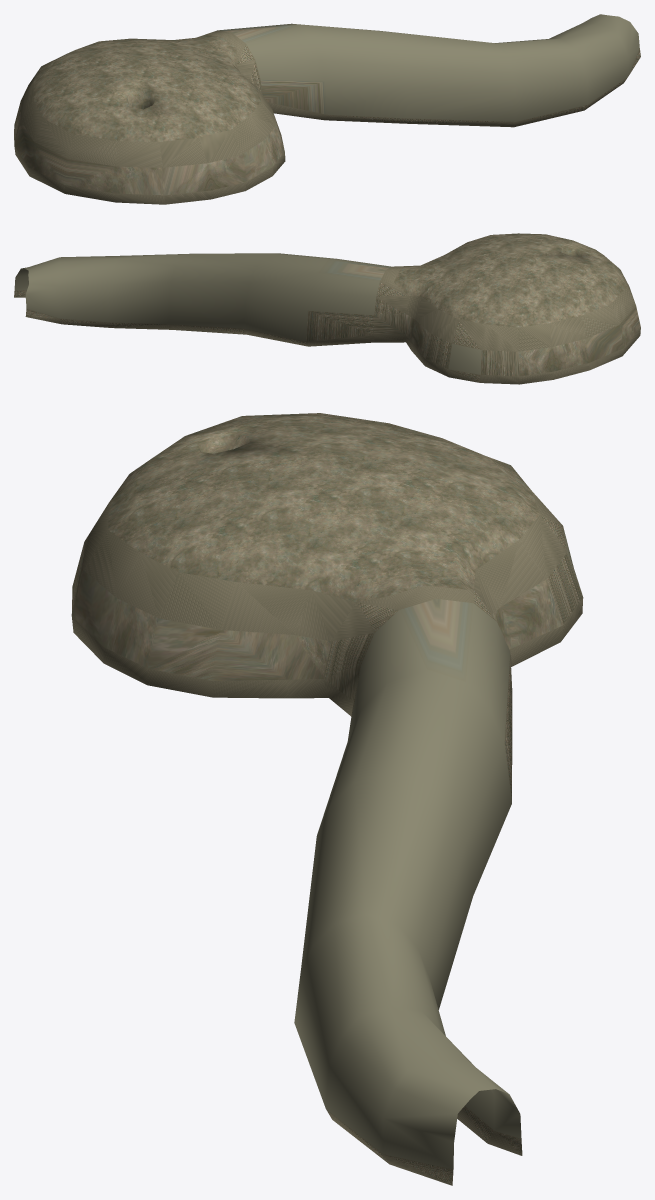
Rendered from EKH_ENTRANCE_PS_EN_CAVE_WALL_112.fbx.
3 views of the same model, one above another, from view 1: azimuth 30°, elevation 25°; view 2: azimuth 150°, elevation 25°; view 3: azimuth 270°, elevation 25° (orthographic). The views are drawn at different scales.
Visible parts, largest first — view 1: EKH_ENTRANCE_PS_EN_CAVE_WALL_112; view 2: EKH_ENTRANCE_PS_EN_CAVE_WALL_112; view 3: EKH_ENTRANCE_PS_EN_CAVE_WALL_112.
Part boxes in pixels (x1,y1,x2,y2): EKH_ENTRANCE_PS_EN_CAVE_WALL_112: (14, 14, 640, 204); EKH_ENTRANCE_PS_EN_CAVE_WALL_112: (14, 233, 640, 384); EKH_ENTRANCE_PS_EN_CAVE_WALL_112: (71, 413, 583, 1185).
Size of the model in its own units: 261947 by 62008 by 100564.
1 material, 1 textured.
